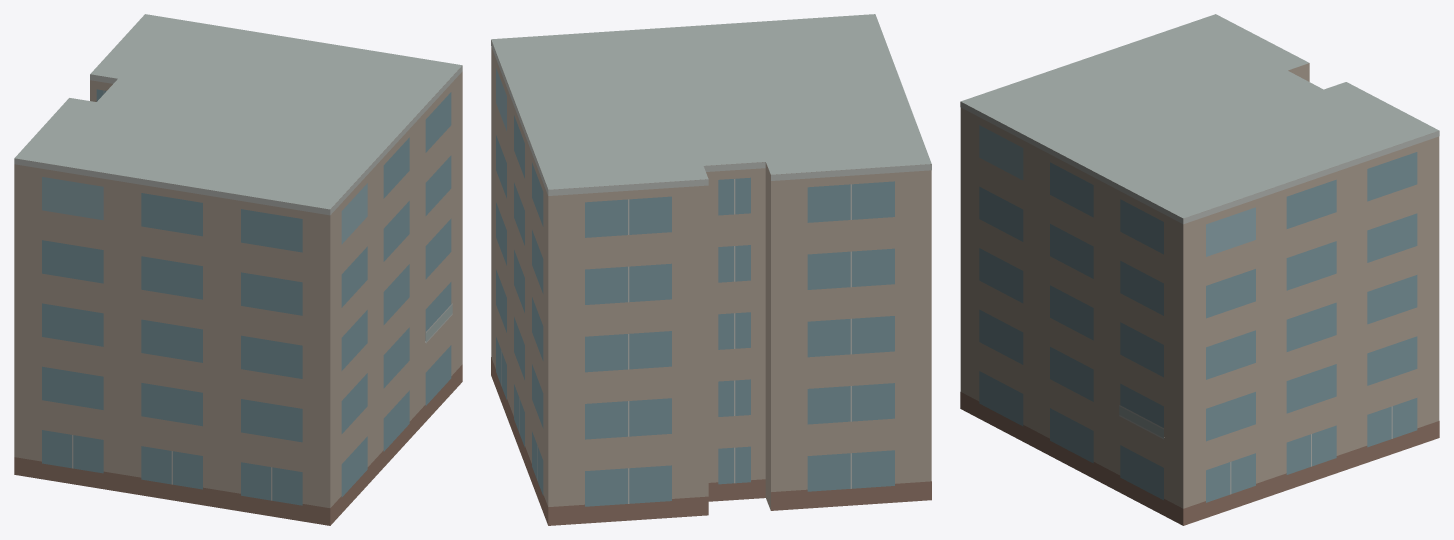
Rendered from survey-upis-32646876.glb.
The picture shows the model from 3 angles, left to right: view 1: azimuth 30°, elevation 25°; view 2: azimuth 150°, elevation 25°; view 3: azimuth 270°, elevation 25°; orthographic projection. The views are drawn at different scales.
Visible parts, largest first — view 1: survey-upis-32646876.tmp; view 2: survey-upis-32646876.tmp; view 3: survey-upis-32646876.tmp.
Boxes of the visible parts, x1=… form: survey-upis-32646876.tmp: x1=14, y1=14, x2=462, y2=525; survey-upis-32646876.tmp: x1=491, y1=14, x2=931, y2=525; survey-upis-32646876.tmp: x1=960, y1=14, x2=1439, y2=525.
Bounding box in the file's own units: 18.56 × 13 × 18.37.
